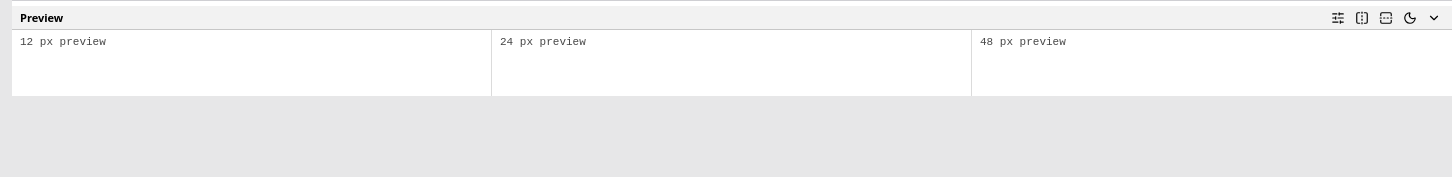
Test case: PreviewStrip › draws the first eight sizes of a long range and says that it cut it
Click the button named "Preview settings": (1338, 18) top-left (1328, 8), bottom-right (1348, 28)
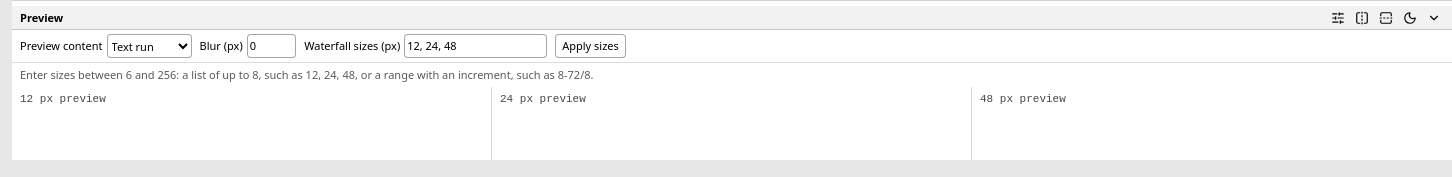
Replace the text in the field labelled "Waterfall sizes (px)" with "8-72/8": (476, 46) top-left (404, 34), bottom-right (547, 58)
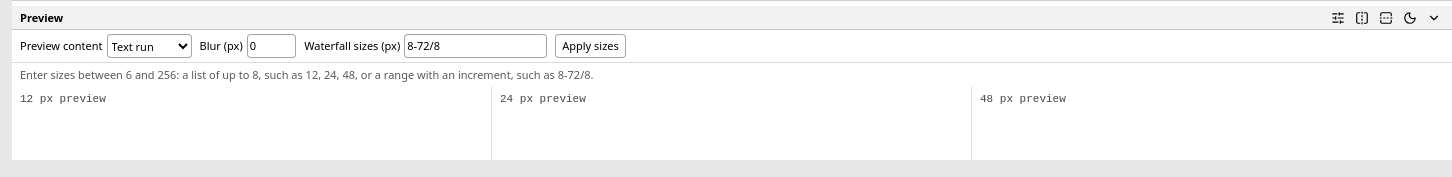
Click the button "Apply sizes": (590, 46) top-left (555, 34), bottom-right (626, 58)
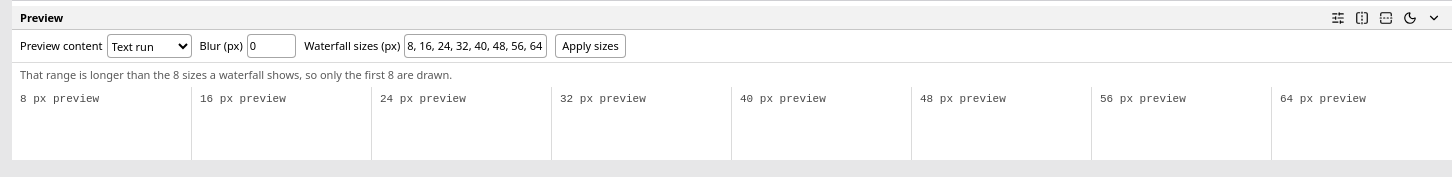
Expected: the field labelled "Waterfall sizes (px)" holds "8, 16, 24, 32, 40, 48, 56, 64", top-left (404, 34), bottom-right (547, 58)
Expected: the message shows "longer than the 8 sizes a waterfall shows", top-left (20, 67), bottom-right (452, 82)
Expected: the number of pictures is 8
